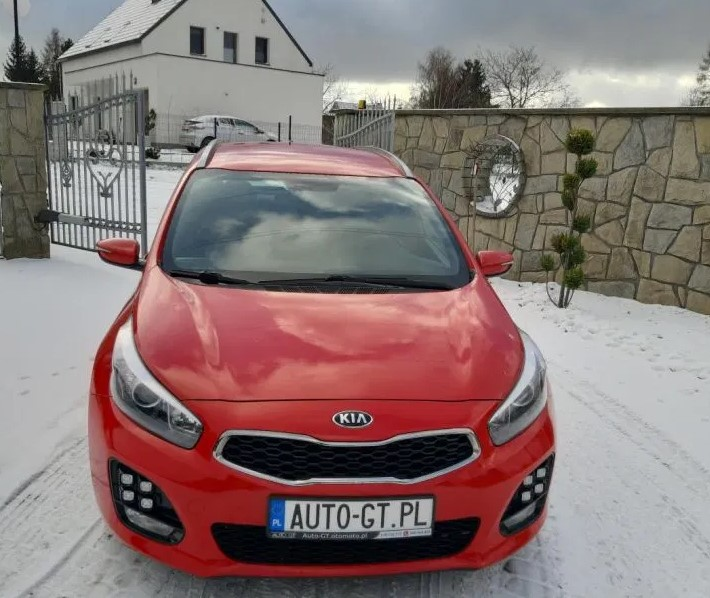number_plate: (265, 490, 443, 543)
